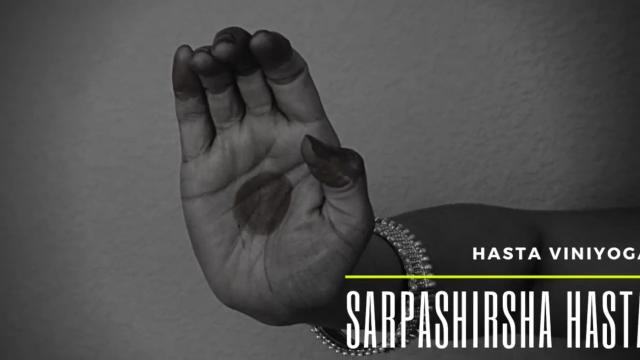sarpsheesh: (160, 20, 396, 336)
